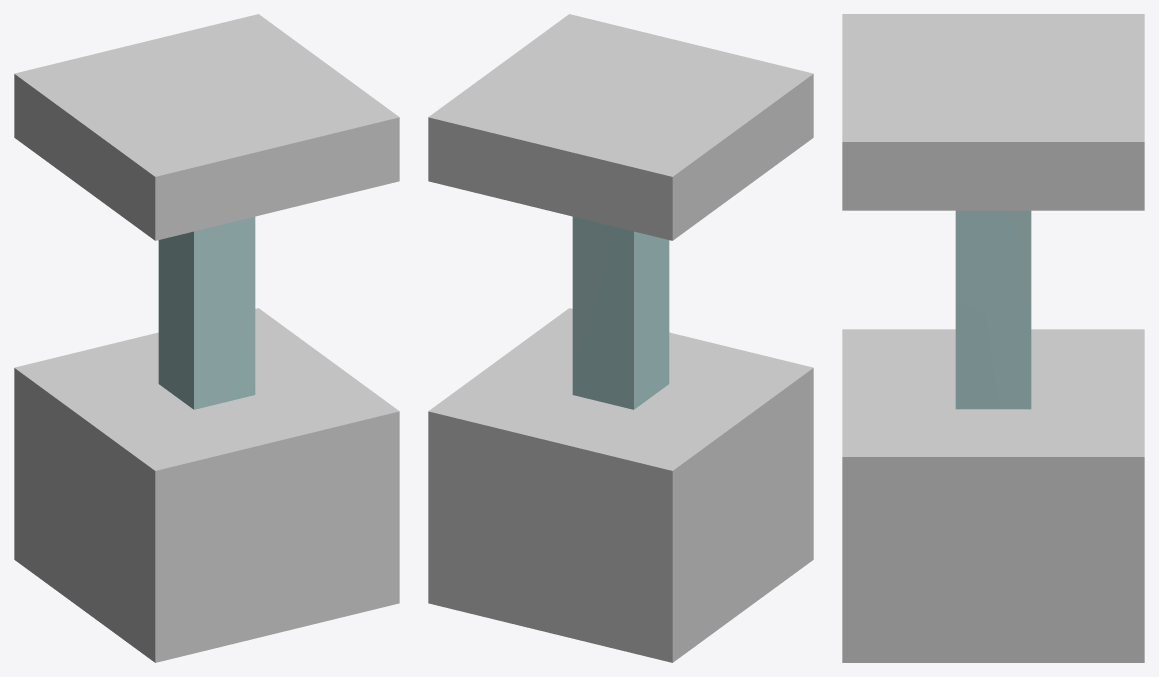
3 views of the same model, side by side, from view 1: azimuth 30°, elevation 25°; view 2: azimuth 150°, elevation 25°; view 3: azimuth 270°, elevation 25° (orthographic). The views are drawn at different scales.
Visible parts, largest first — view 1: base, top_slab, post; view 2: base, top_slab, post; view 3: base, top_slab, post.
Part boxes in pixels (x1,y1,x2,y2): base: (14, 308, 399, 662); top_slab: (14, 14, 399, 240); post: (158, 216, 255, 409); base: (428, 308, 813, 662); top_slab: (428, 14, 813, 240); post: (572, 216, 669, 409); base: (842, 329, 1144, 662); top_slab: (842, 14, 1144, 210); post: (955, 210, 1031, 409).
Size of the model in its own units: 0.3158 by 0.6 by 0.3158.
